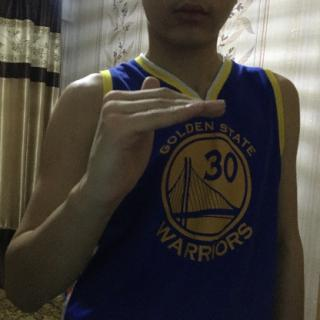KHAA: (80, 73, 235, 210)
